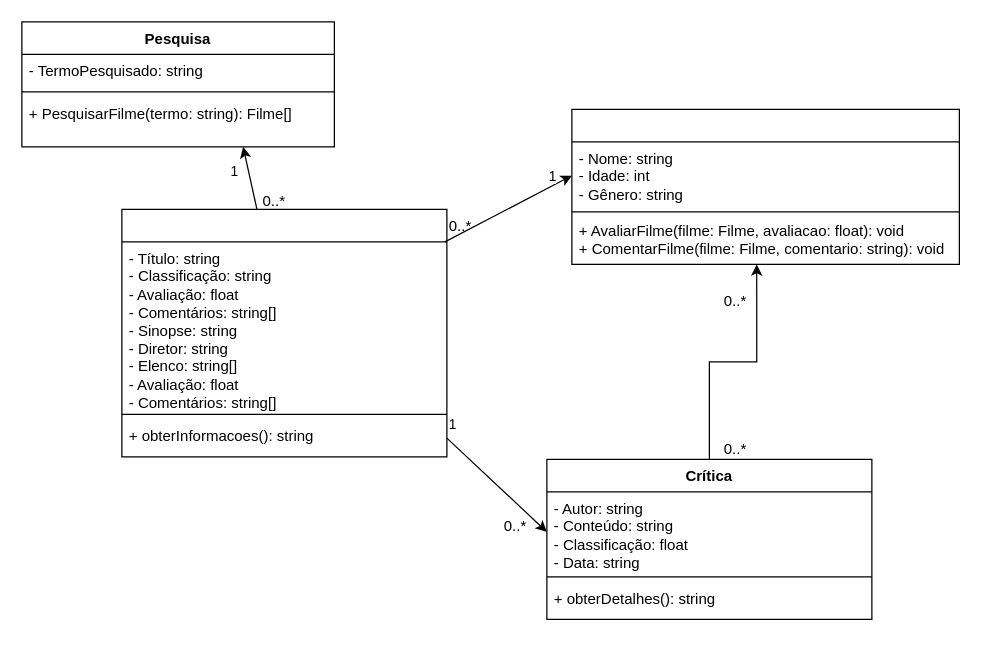
Some shapes in this 981 by 645 pixel diagram are drawn without their labels. Each missing label, with the box of its shape:
Filme: (121, 208, 447, 457)
Usuário: (571, 108, 959, 264)
